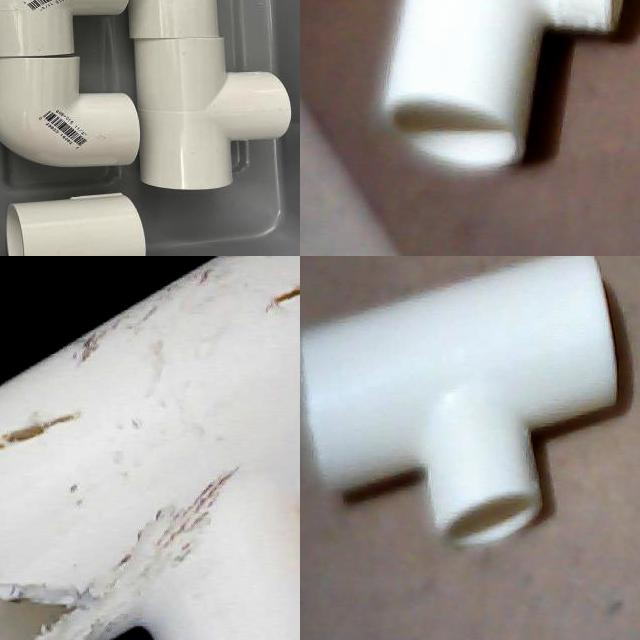Defective: (54, 291, 277, 345), (128, 475, 236, 581), (0, 542, 90, 640), (0, 415, 103, 489)
L Joint: (0, 57, 141, 170)
T Joint: (0, 256, 300, 640), (300, 256, 619, 549), (379, 0, 625, 177), (133, 34, 294, 194)
